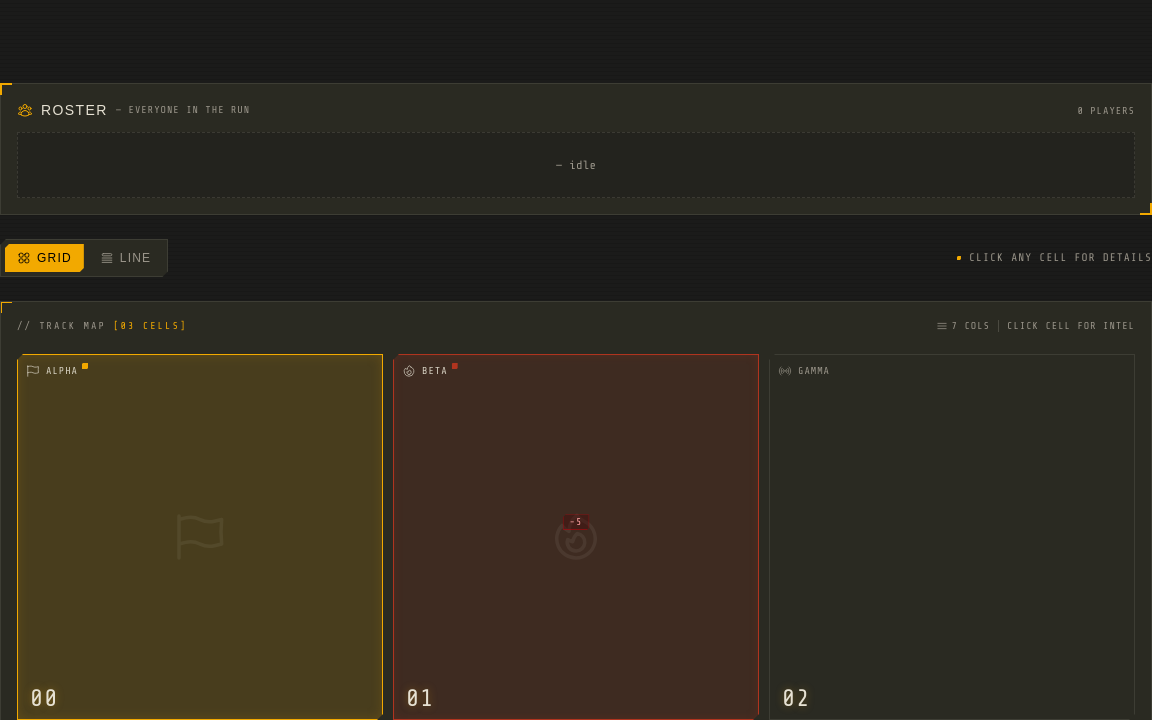
Scenario: BoardView board › switches to linear mode and persists the choice
Step 1. Click the button "Line" → (126, 258), box [88,244,163,272]
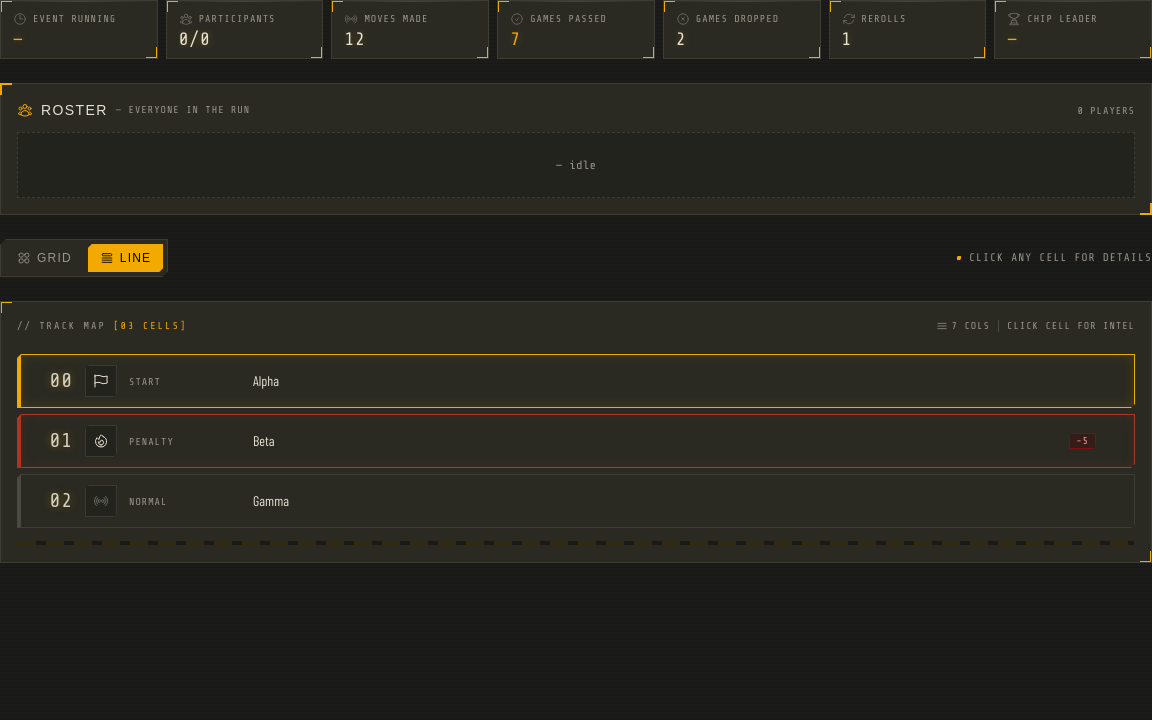
Now the text "Penalty" is shown, box [129,436,174,446]
